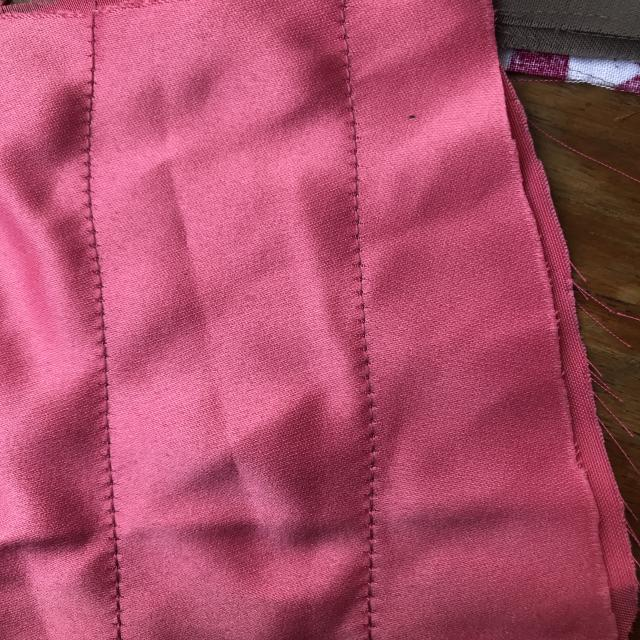good: (341, 146, 383, 268)
